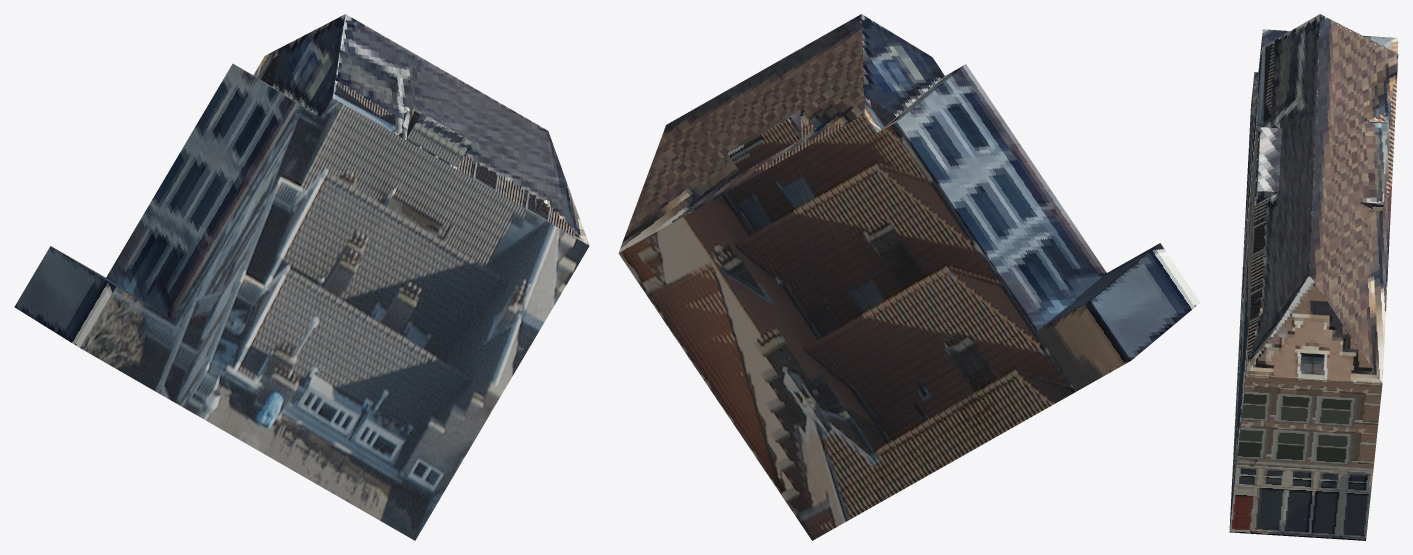
The picture shows the model from 3 angles, left to right: view 1: azimuth 30°, elevation 25°; view 2: azimuth 150°, elevation 25°; view 3: azimuth 270°, elevation 25°; orthographic projection.
Parts seen in each view (by area): view 1: BAG_0599100000671619 (×6); view 2: BAG_0599100000671619 (×5); view 3: BAG_0599100000671619 (×6).
Boxes of the visible parts, x1,y1,x2,y2 form: BAG_0599100000671619 (×6): (14, 14, 589, 540); BAG_0599100000671619 (×5): (618, 14, 1200, 540); BAG_0599100000671619 (×6): (1229, 14, 1398, 540).
Size of the model in its own units: 23.69 by 22.65 by 6.75.
Materials: 7 (6 with a texture image).
